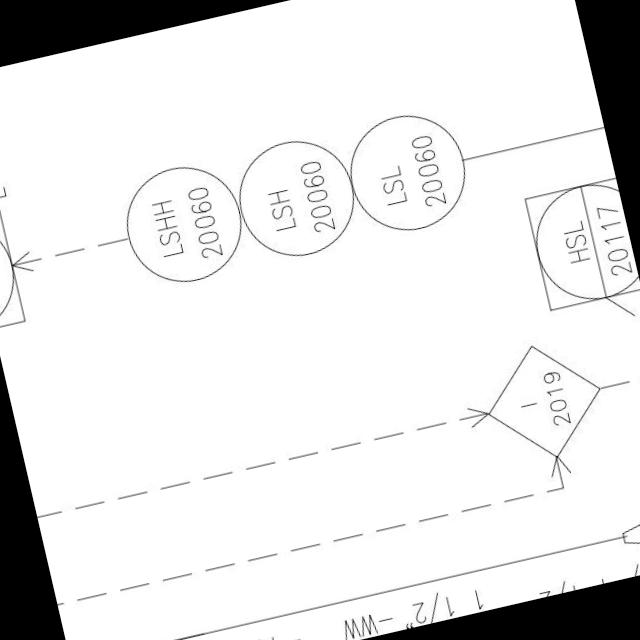SP: (614, 521, 640, 556)
